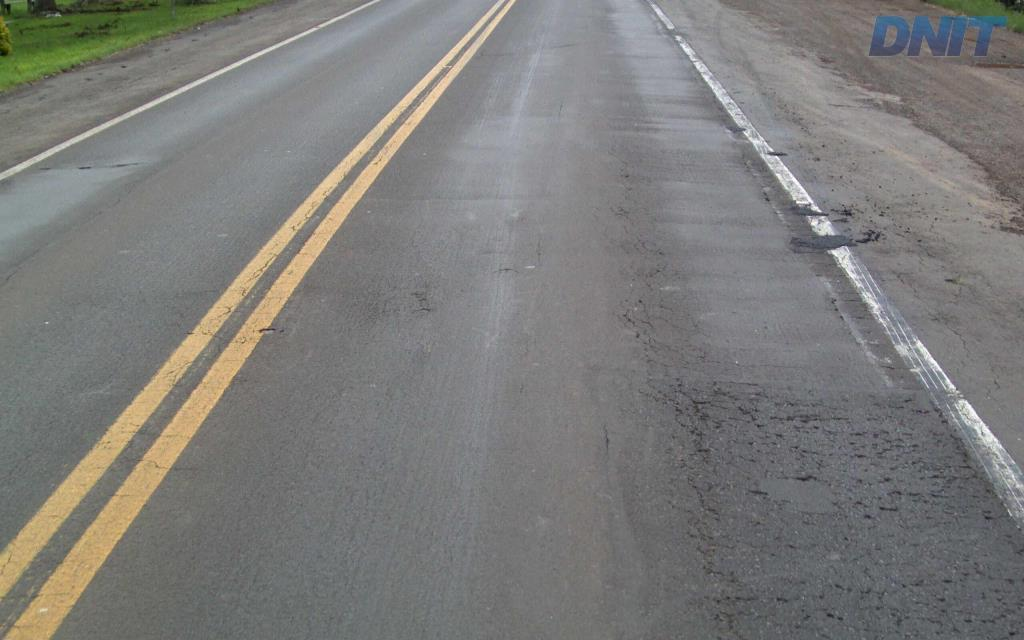crack: (911, 455, 991, 503), (668, 377, 728, 431), (678, 413, 711, 464), (981, 500, 1021, 540), (687, 476, 721, 522), (986, 587, 1023, 619), (711, 587, 759, 608)
